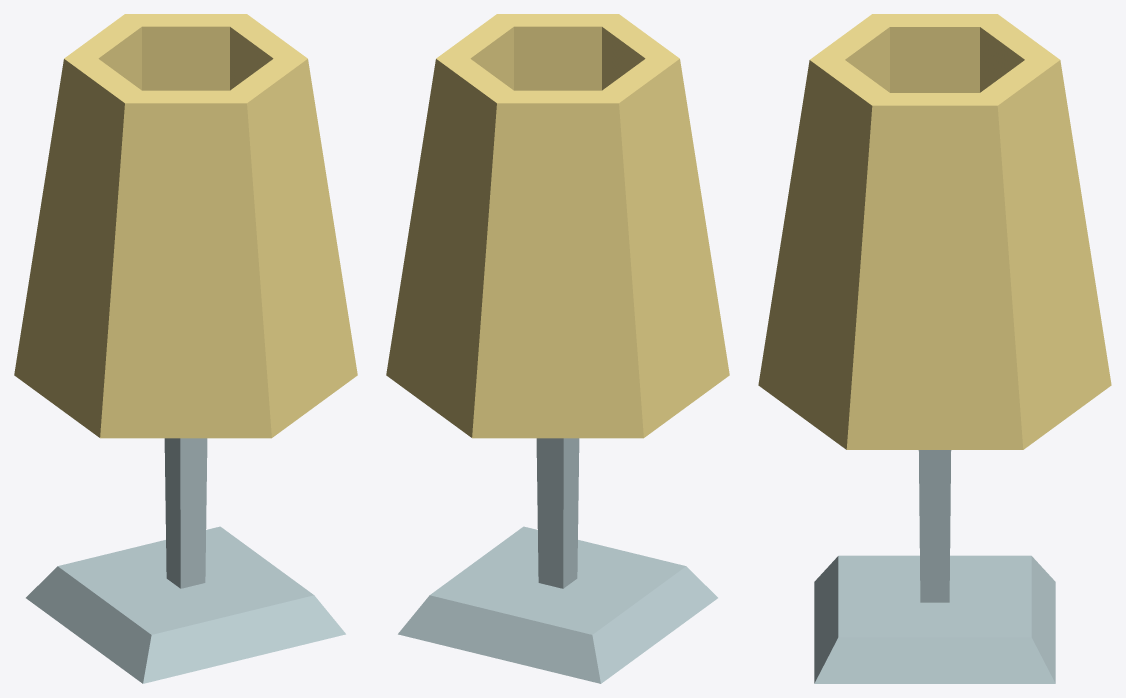
Rendered from lampRoundTable.glb.
The picture shows the model from 3 angles, left to right: view 1: azimuth 30°, elevation 25°; view 2: azimuth 150°, elevation 25°; view 3: azimuth 270°, elevation 25°; orthographic projection. The views are drawn at different scales.
Visible parts, largest first — view 1: lampRoundTable; view 2: lampRoundTable; view 3: lampRoundTable.
Boxes of the visible parts, x1,y1,x2,y2 form: lampRoundTable: (14,14,357,683); lampRoundTable: (386,14,729,683); lampRoundTable: (758,14,1111,683).
Size of the model in its own units: 0.3289 by 0.6798 by 0.3798.
